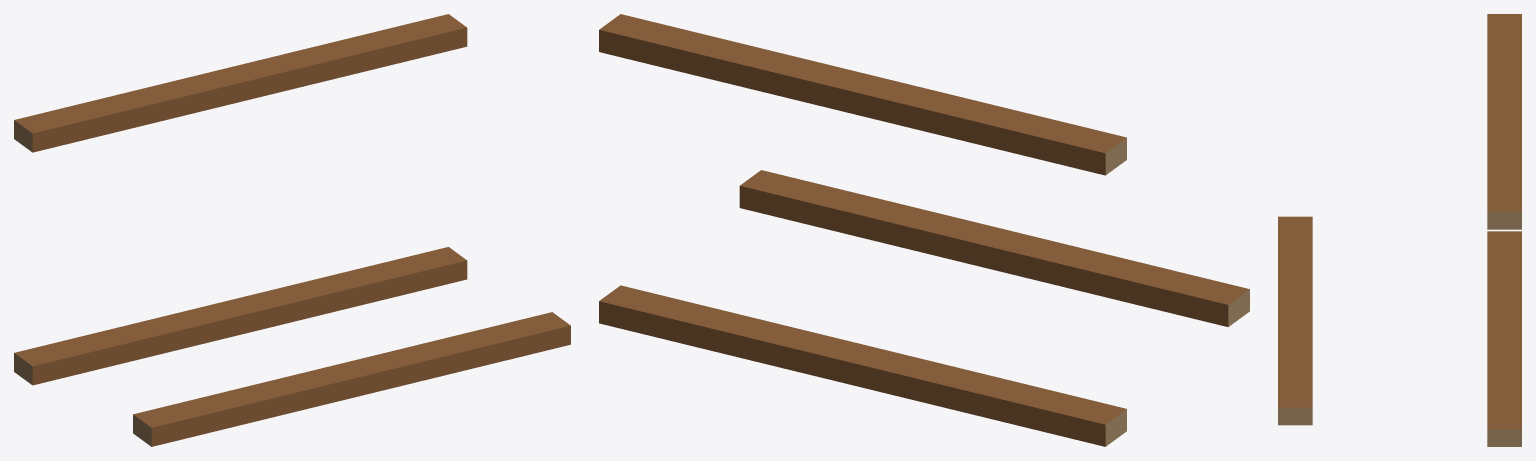
3 renders of one model, left to right at view 1: azimuth 30°, elevation 25°; view 2: azimuth 150°, elevation 25°; view 3: azimuth 270°, elevation 25°, orthographic. The views are drawn at different scales.
Visible parts, largest first — view 1: Box15683_brown_0, Box15698_brown_0, Box15699_brown_0; view 2: Box15698_brown_0, Box15683_brown_0, Box15699_brown_0; view 3: Box15698_brown_0, Box15683_brown_0, Box15699_brown_0, Box15699_brown2_0, Box15698_brown2_0, Box15683_brown2_0.
Part boxes in pixels (x1=…): Box15683_brown_0: x1=14, y1=14, x2=467, y2=152; Box15698_brown_0: x1=14, y1=247, x2=467, y2=385; Box15699_brown_0: x1=133, y1=312, x2=570, y2=446; Box15698_brown_0: x1=599, y1=285, x2=1126, y2=446; Box15683_brown_0: x1=599, y1=14, x2=1126, y2=175; Box15699_brown_0: x1=739, y1=170, x2=1249, y2=326; Box15698_brown_0: x1=1487, y1=231, x2=1521, y2=429; Box15683_brown_0: x1=1487, y1=14, x2=1521, y2=211; Box15699_brown_0: x1=1278, y1=216, x2=1312, y2=407; Box15699_brown2_0: x1=1278, y1=407, x2=1312, y2=425; Box15698_brown2_0: x1=1487, y1=429, x2=1521, y2=446; Box15683_brown2_0: x1=1487, y1=212, x2=1521, y2=229.
Bounding box in the file's own units: 648 × 359 × 338.
